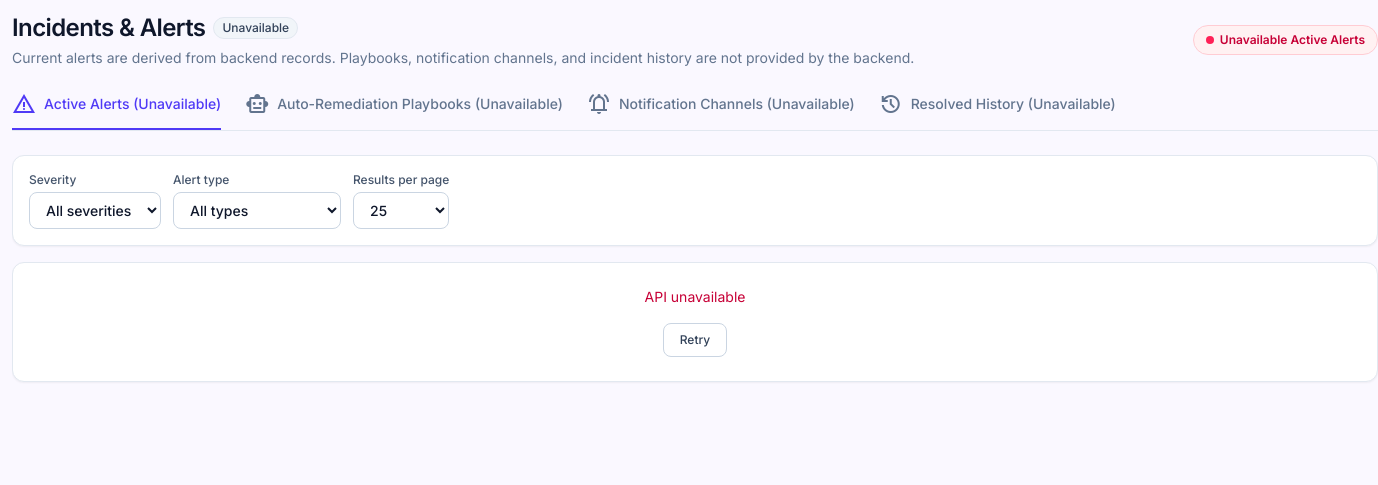
it: AlertsPage › distinguishes an empty alert result from a failed request and retries
Expected: the text "API unavailable" is shown, [644, 288, 745, 305]
Expected: the text "Unavailable Active Alerts" is shown, [1193, 25, 1377, 55]
Click the button "Retry" at (695,340), box [663, 323, 727, 357]
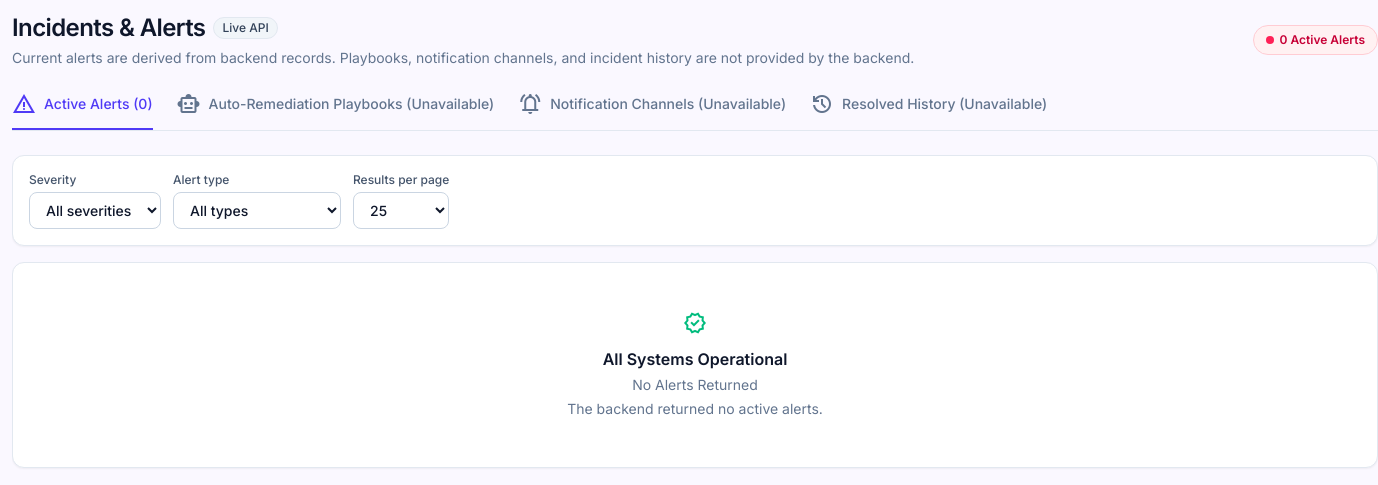
Result: the text "No Alerts Returned" is shown at [632, 376, 758, 393]
